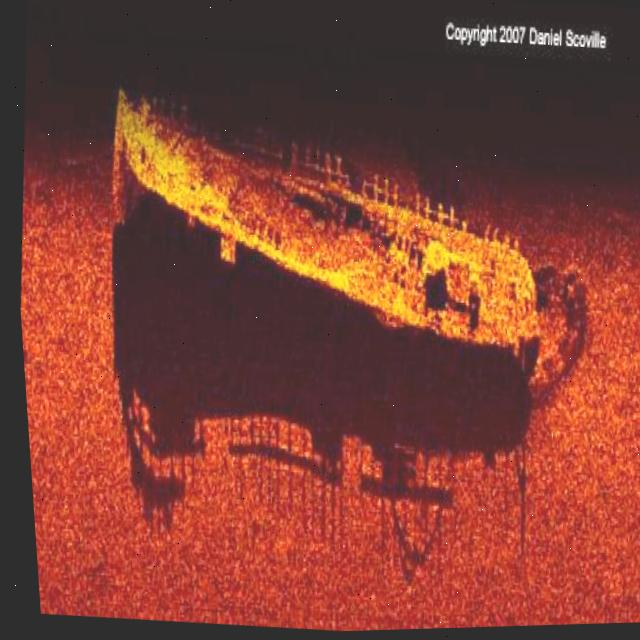shipwreck: (85, 70, 556, 383)
